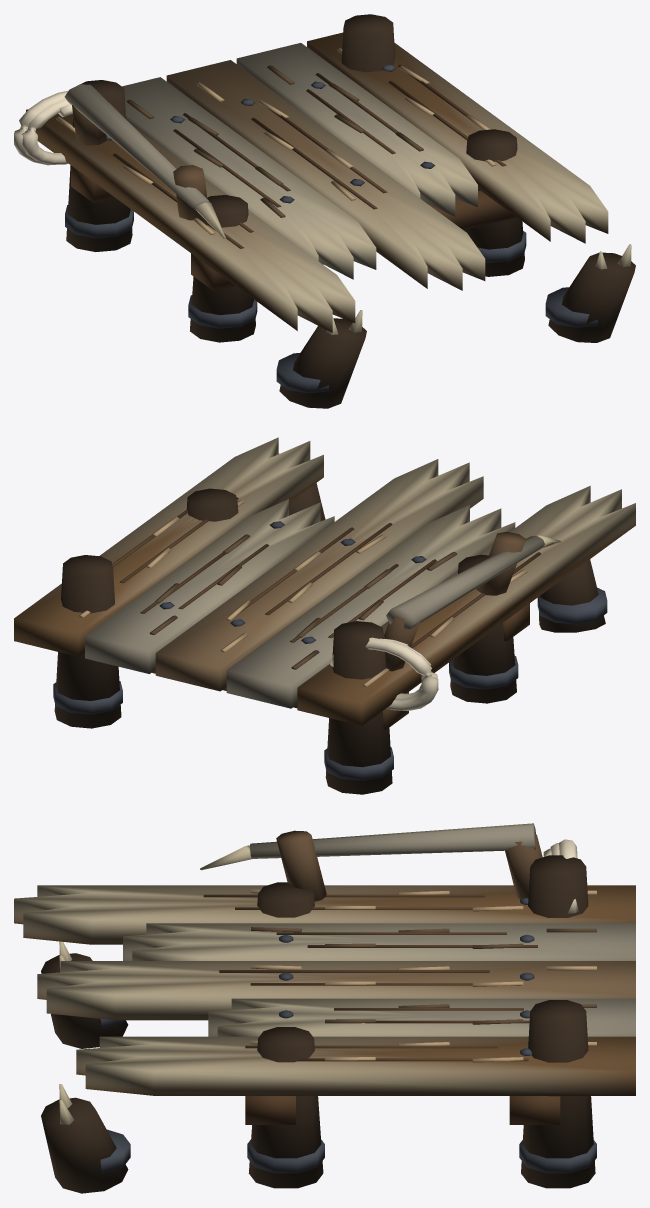
File: deco-muelle.glb
3 renders of one model, top to bottom at view 1: azimuth 30°, elevation 25°; view 2: azimuth 150°, elevation 25°; view 3: azimuth 270°, elevation 25°, orthographic. The views are drawn at different scales.
Visible parts, largest first — view 1: Planks, Posts, Rail, Rope; view 2: Planks, Posts, Rail, Rope; view 3: Planks, Posts, Rail, Rope.
Boxes of the visible parts, x1,y1,x2,y2 form: Planks: (26, 32, 608, 332); Posts: (65, 14, 635, 408); Rail: (64, 84, 226, 239); Rope: (14, 90, 72, 165); Planks: (14, 437, 635, 725); Posts: (53, 453, 607, 794); Rail: (384, 532, 560, 671); Rope: (330, 637, 438, 710); Planks: (14, 885, 635, 1095); Posts: (41, 855, 596, 1193); Rail: (200, 823, 542, 901); Rope: (543, 839, 578, 913).
Size of the model in its own units: 0.8011 by 0.3415 by 1.
